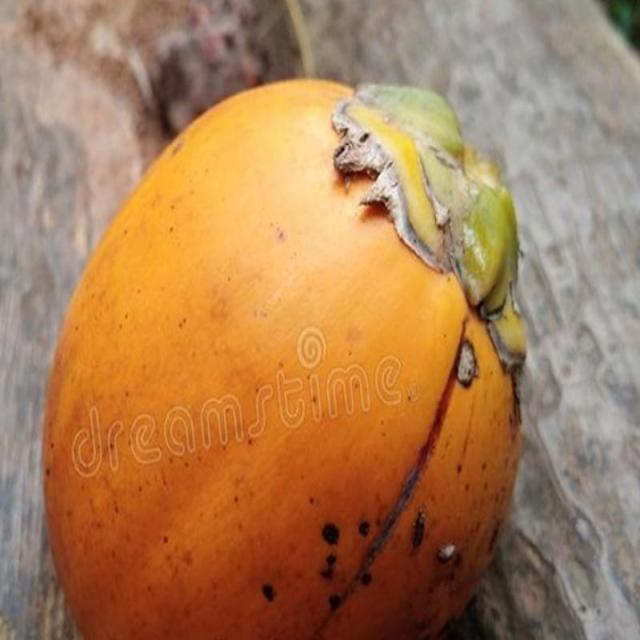good: (39, 78, 526, 639)
